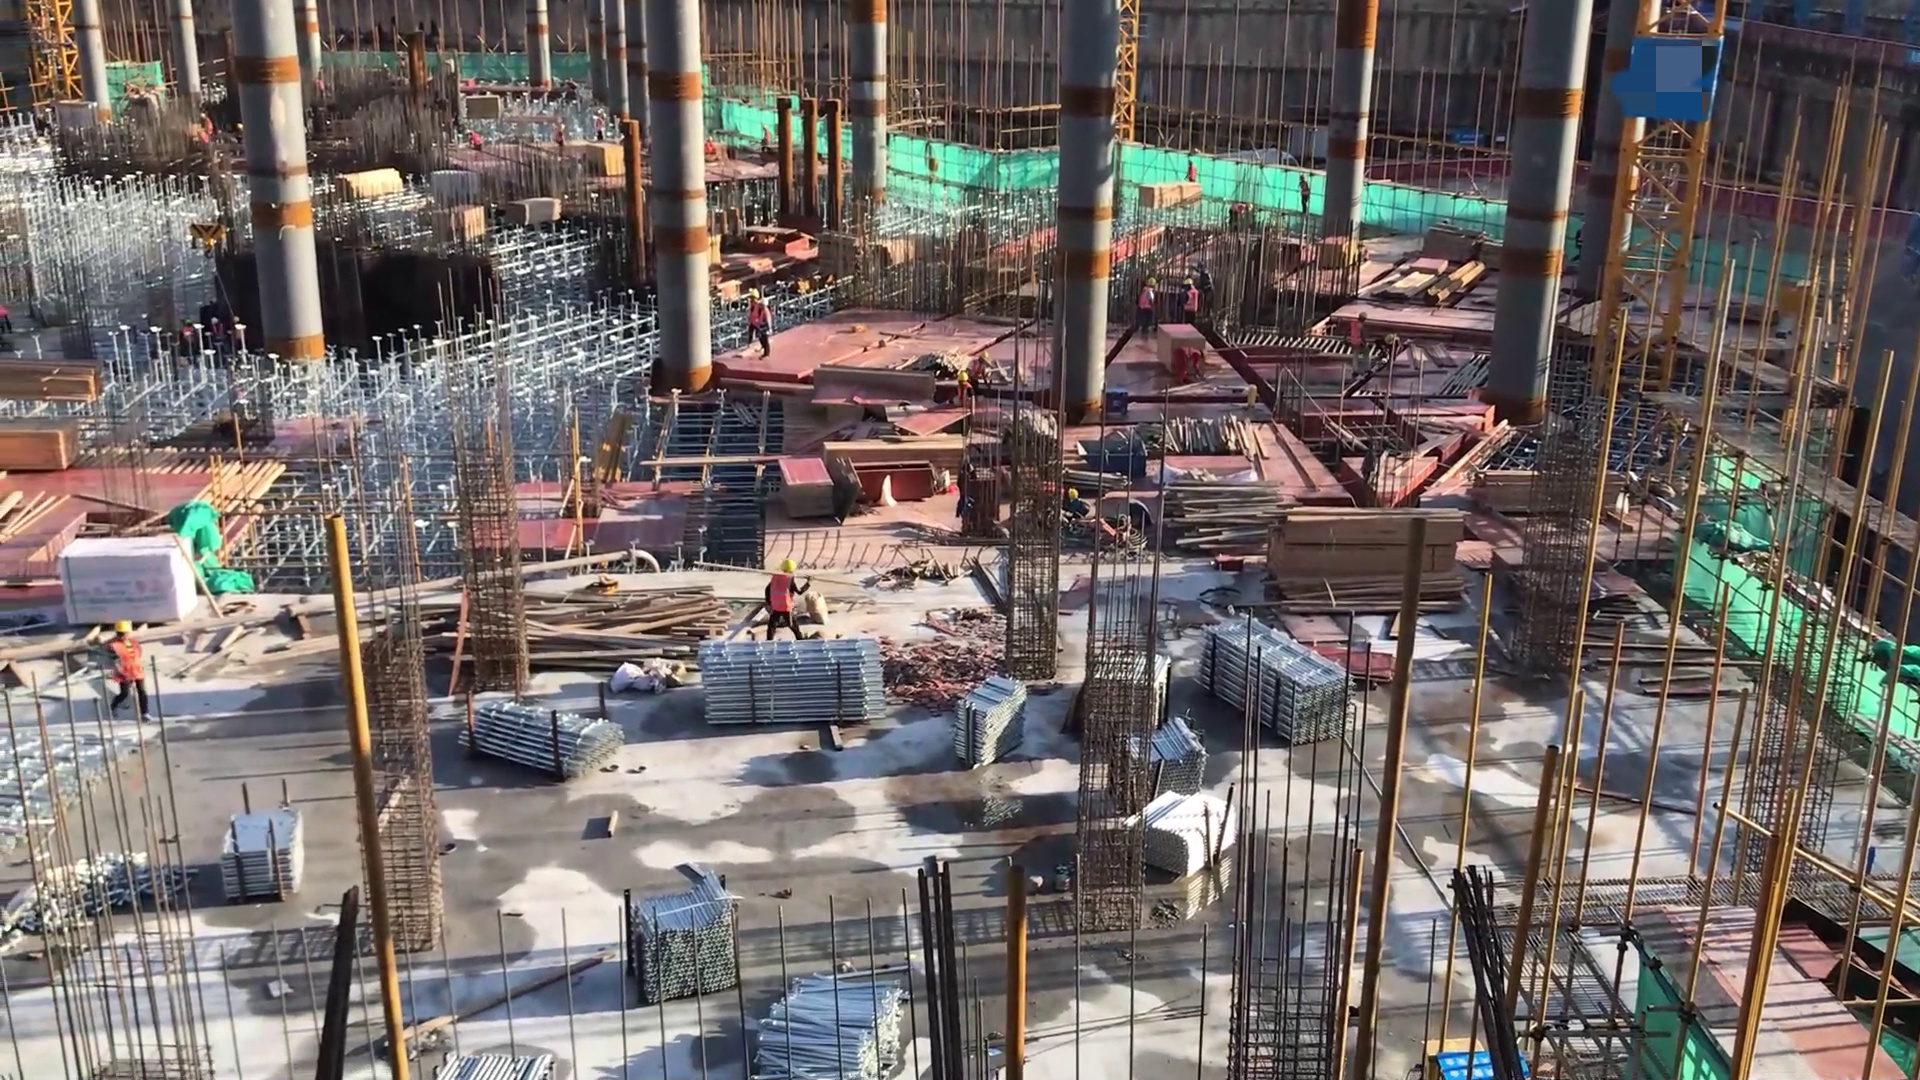helmet: (778, 555, 800, 575), (112, 618, 136, 636), (1356, 310, 1370, 324), (955, 370, 970, 384), (1068, 486, 1079, 505), (746, 287, 761, 299), (978, 350, 990, 363), (1146, 277, 1158, 289), (759, 296, 770, 308), (1386, 332, 1397, 346), (1183, 277, 1193, 288)
person: (102, 618, 158, 734), (759, 554, 809, 649), (1170, 344, 1211, 392), (1349, 308, 1372, 376), (1196, 258, 1218, 322), (586, 144, 627, 177), (1139, 275, 1159, 342), (757, 294, 775, 364), (964, 349, 992, 394), (1182, 276, 1202, 331), (953, 371, 973, 415), (1382, 330, 1406, 366), (748, 285, 760, 348), (208, 312, 225, 352), (1298, 169, 1311, 219), (552, 120, 569, 161), (201, 110, 216, 141), (467, 126, 483, 154), (1185, 155, 1198, 191), (761, 124, 773, 158), (701, 134, 716, 160)
vest: (107, 637, 147, 686), (767, 574, 801, 620), (1350, 319, 1369, 356), (1183, 287, 1202, 314), (970, 359, 989, 387), (758, 305, 774, 336), (1138, 287, 1156, 312), (956, 383, 973, 408), (1200, 268, 1215, 293)
